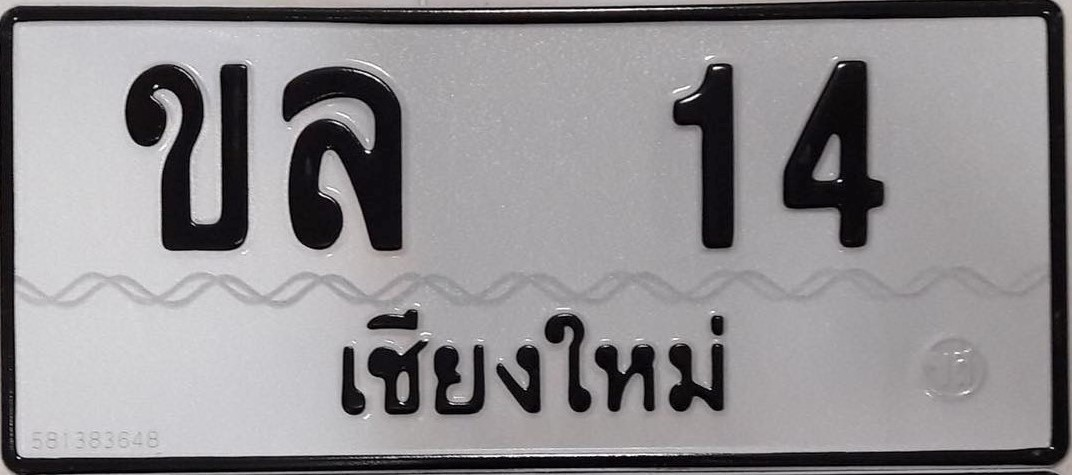txt01: (119, 57, 255, 256)
txt31: (275, 61, 408, 256)
